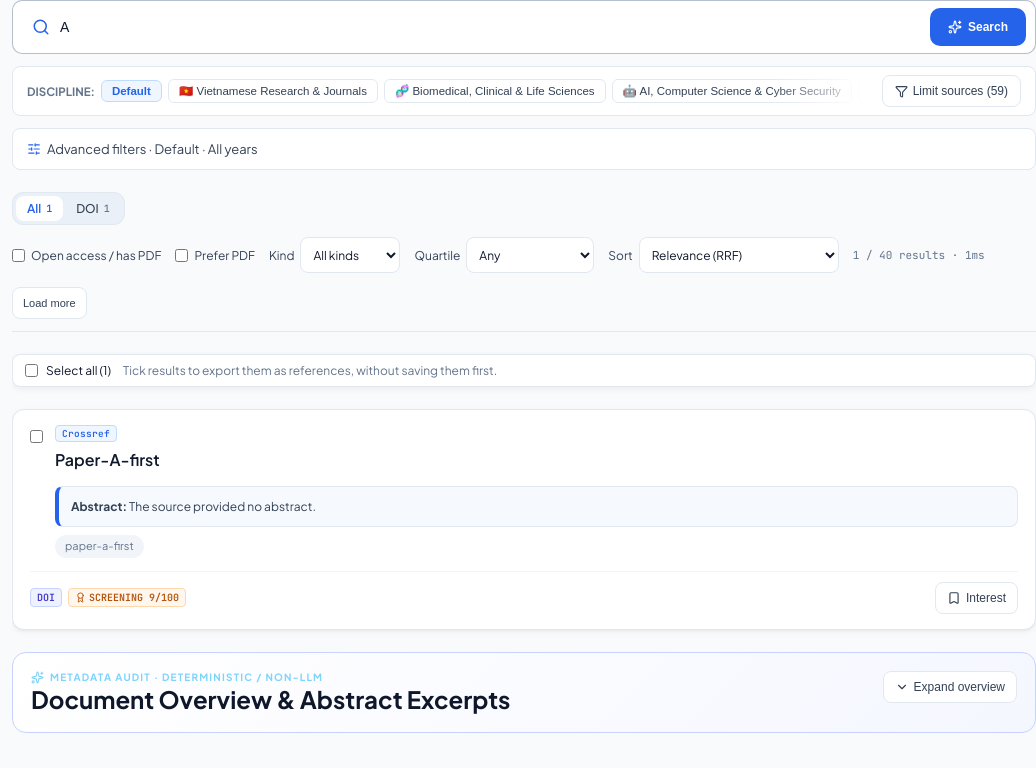
Test case: search pagination › ignores an old load-more success after a new query
Click the button with id "search-load-more": (49, 303) [12,287,87,319]
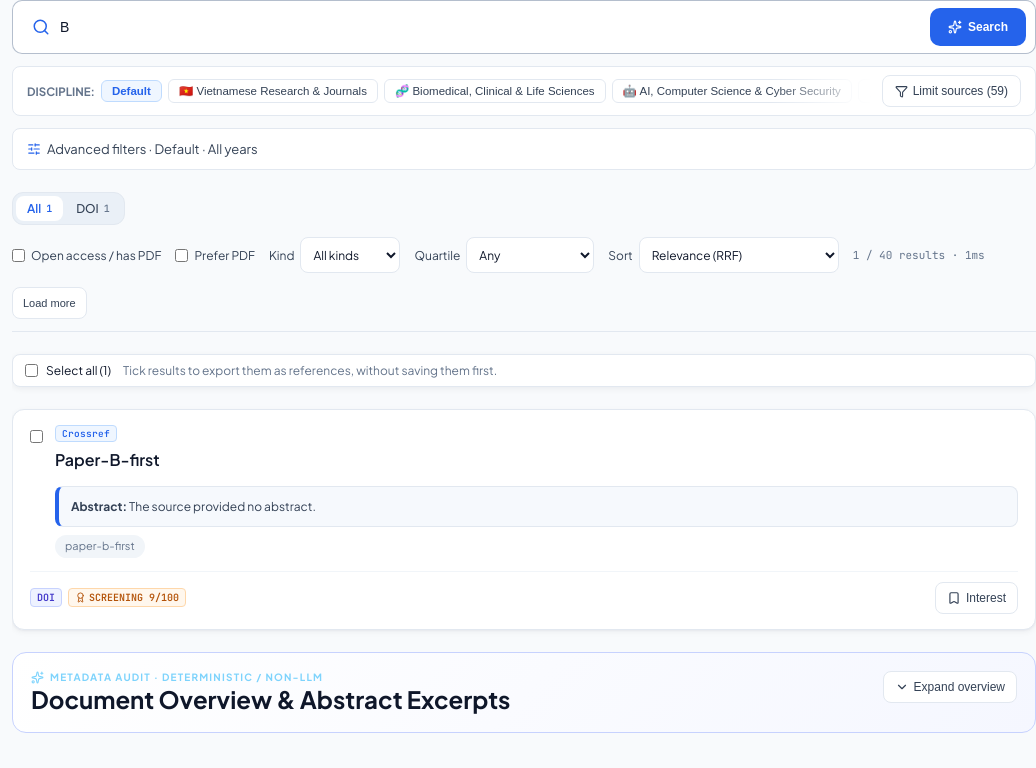
Expected: the text "Paper-B-first" is shown, [55,448,160,472]
